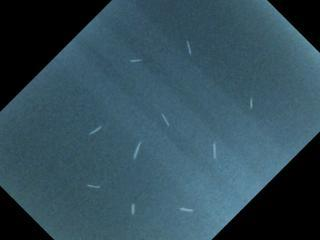scratch: (133, 141, 142, 159), (160, 112, 170, 128), (88, 125, 102, 135), (186, 40, 192, 55), (179, 207, 194, 213), (212, 142, 217, 159), (87, 184, 101, 189), (129, 58, 143, 63), (131, 203, 136, 215), (249, 98, 254, 109)
